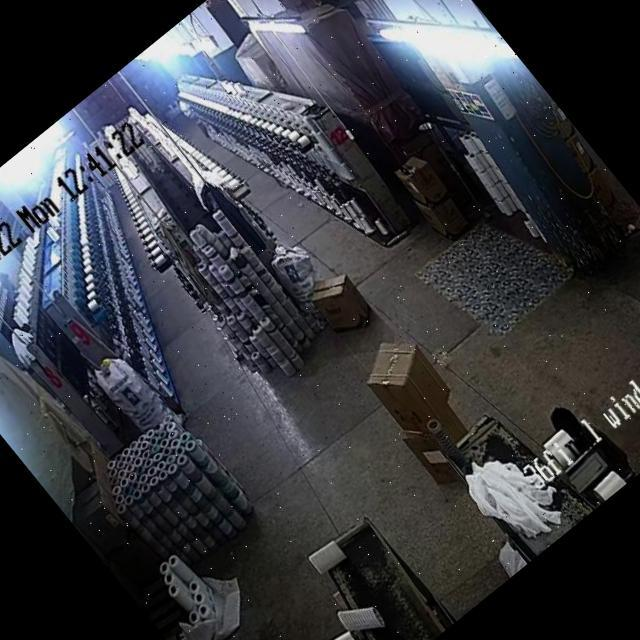person: (552, 391, 628, 475)
